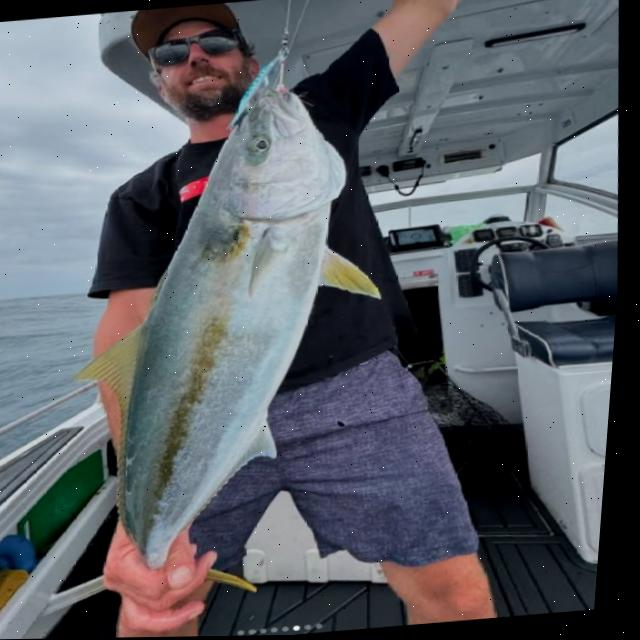Kingfish: (38, 65, 426, 614)
